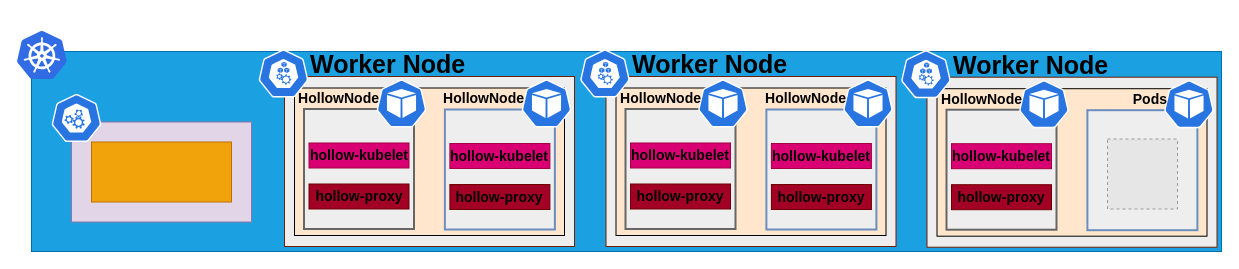
Some shapes in this 1239 by 269 pixel diagram are drawn without their labels. Grey dashed boxes stand in for pictures. The box of each missing label's shape, as (x1, y1, x2, y2) in pixels:
Control Plane: (90, 141, 232, 202)
K8s cluster: (17, 31, 67, 79)
master: (50, 93, 102, 142)
